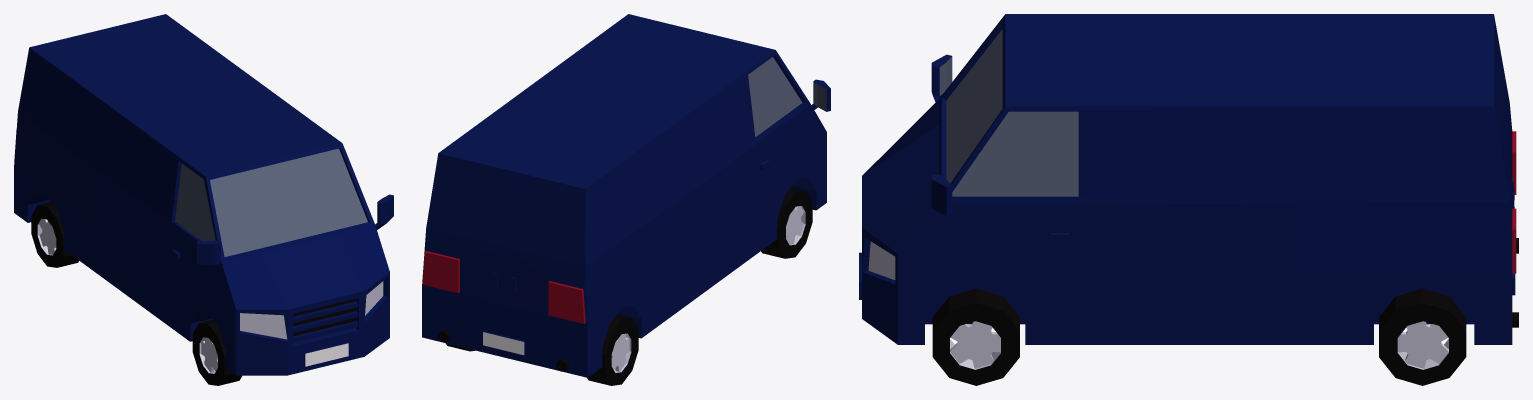
The model's file is mod-van.gltf.
The picture shows the model from 3 angles, left to right: view 1: azimuth 30°, elevation 25°; view 2: azimuth 150°, elevation 25°; view 3: azimuth 270°, elevation 25°; orthographic projection. The views are drawn at different scales.
Parts seen in each view (by area): view 1: Van, Van wheel front left; view 2: Van, Van wheel front left; view 3: Van, Van wheel front left.
Part boxes in pixels (box(x1,y1,x2,y2)): Van: box(14, 14, 393, 375); Van wheel front left: box(31, 201, 241, 385); Van: box(422, 14, 830, 377); Van wheel front left: box(446, 187, 812, 385); Van: box(859, 14, 1518, 344); Van wheel front left: box(932, 288, 1466, 385).
Size of the model in its own units: 2.48 by 2.39 by 5.2.
